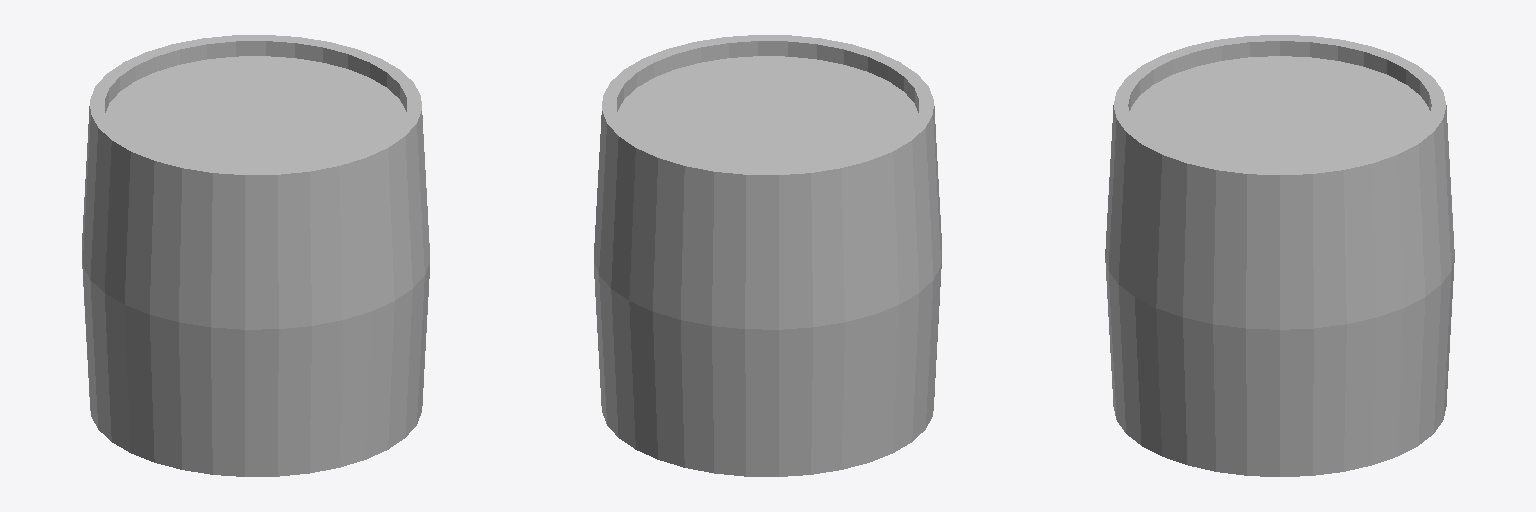
The model's file is Barrel.obj.
The picture shows the model from 3 angles: view 1: azimuth 30°, elevation 25°; view 2: azimuth 150°, elevation 25°; view 3: azimuth 270°, elevation 25°; orthographic projection.
Visible parts, largest first — view 1: Circle; view 2: Circle; view 3: Circle.
Part boxes in pixels (left/top/right/bottom): Circle: left=82, top=35, right=429, bottom=476; Circle: left=594, top=35, right=941, bottom=476; Circle: left=1105, top=35, right=1454, bottom=476.
Size of the model in its own units: 1.05 by 1 by 1.05.